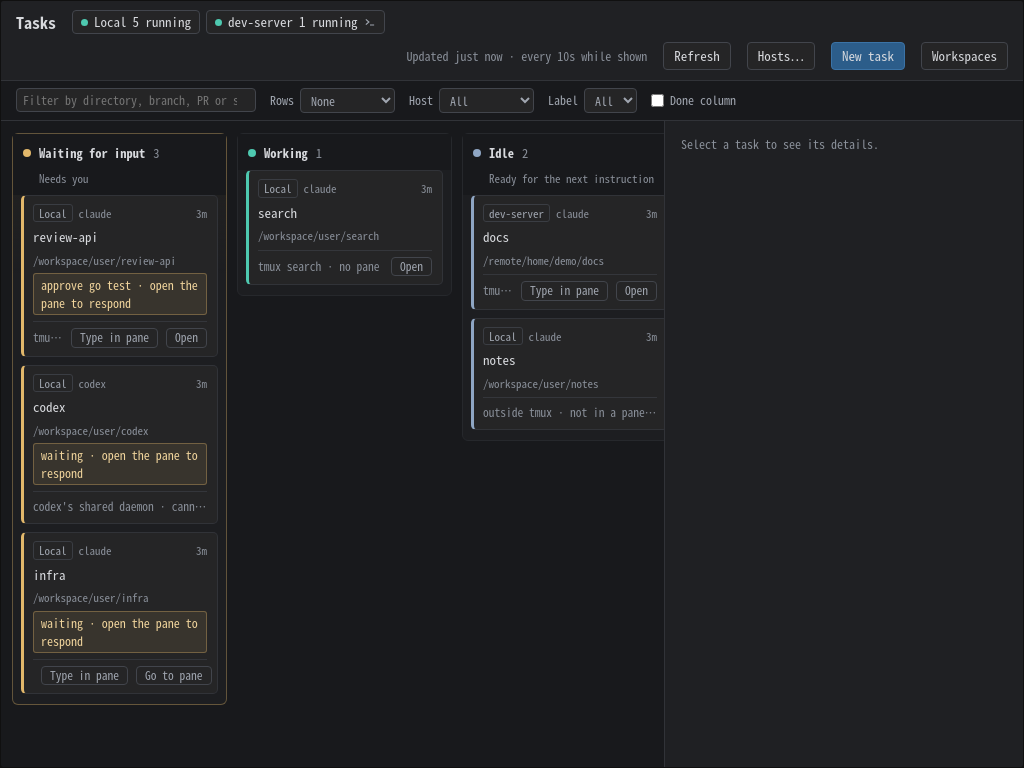
Test: TaskDashboard Type in pane: opening › ends a shared attach when the reopened popup closes before either answer
Click the button with aria-label "Type in pane: ". click: [114, 338]
box: [71,328,158,348]
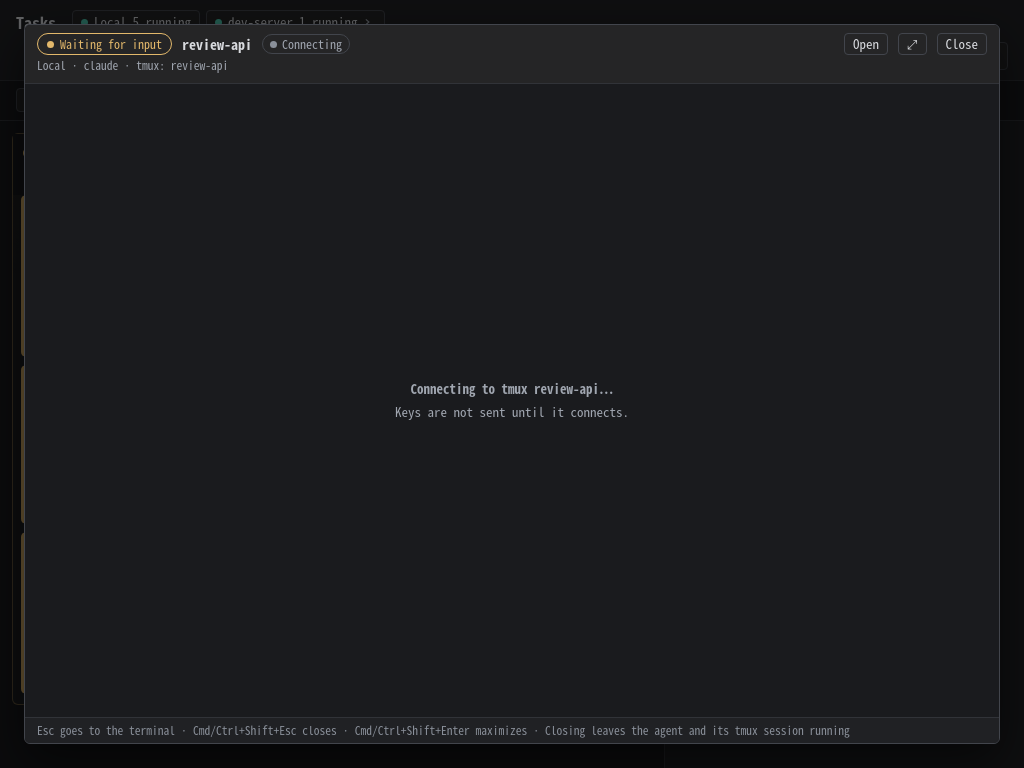
Click the button "Close". click: [962, 44]
box: [936,33,987,55]
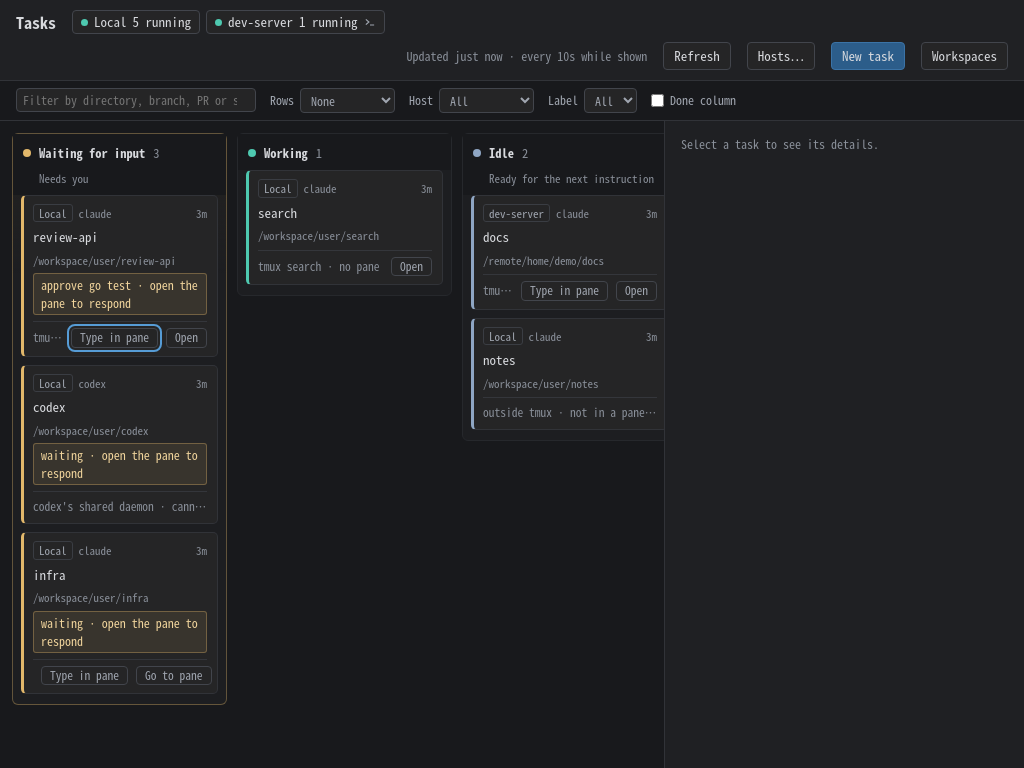
Click the button with aria-label "Type in pane: ". click: [114, 338]
box: [71,328,158,348]
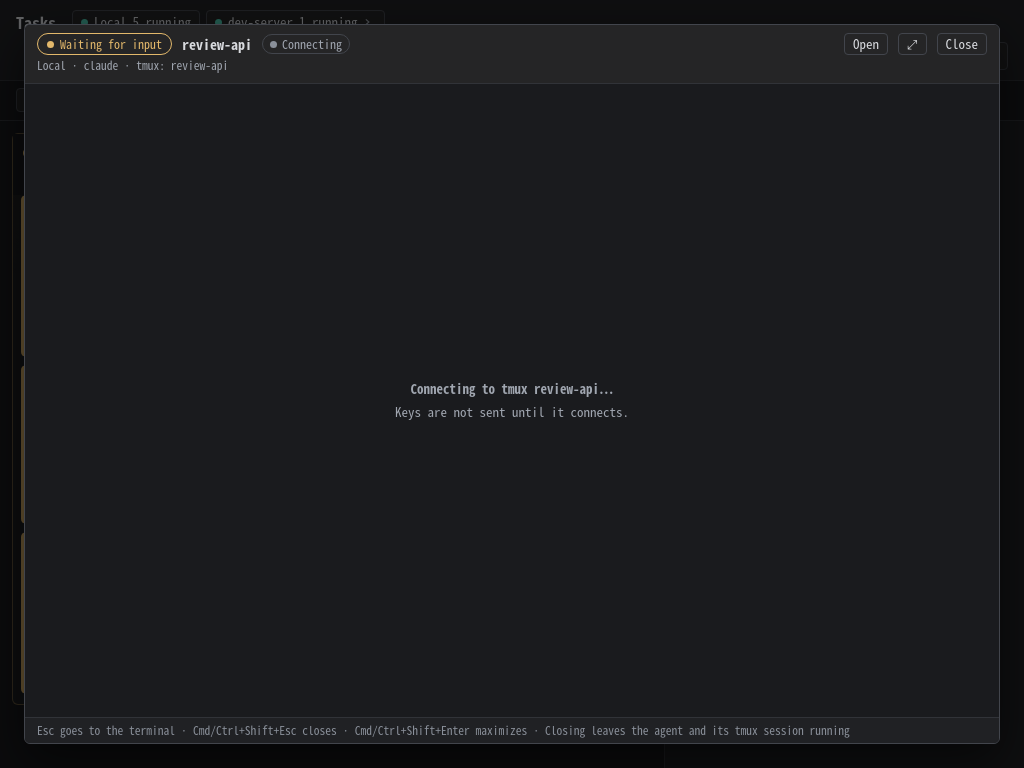
Click the button "Close". click: [962, 44]
box: [936,33,987,55]
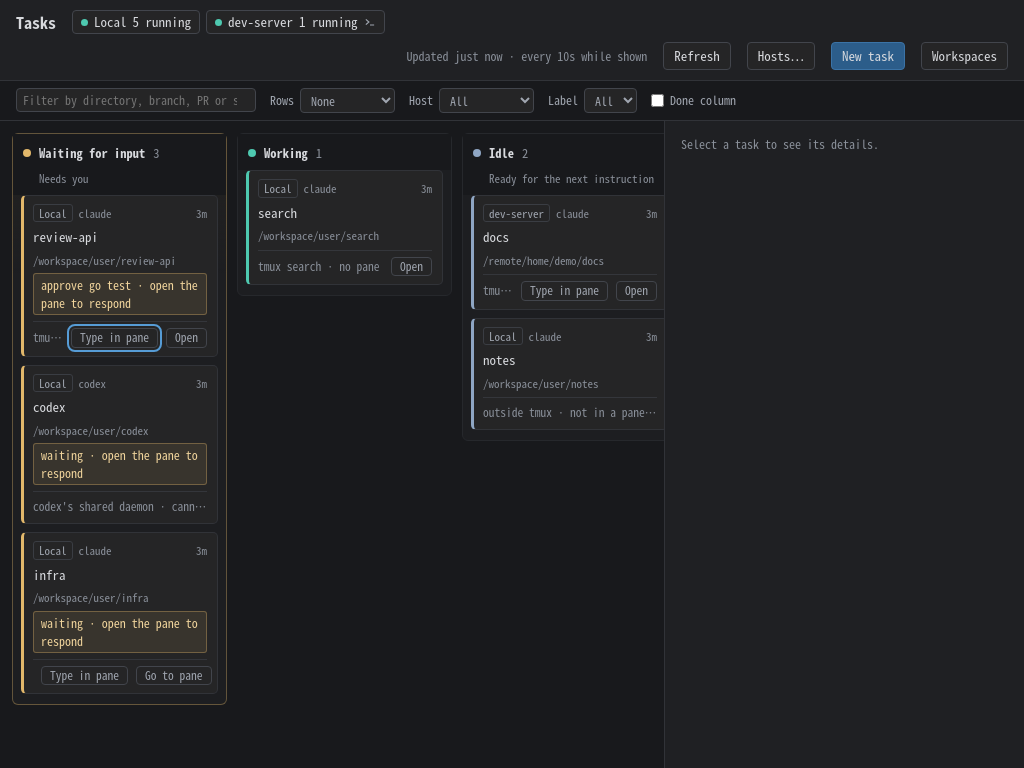
Result: the dialog is gone
